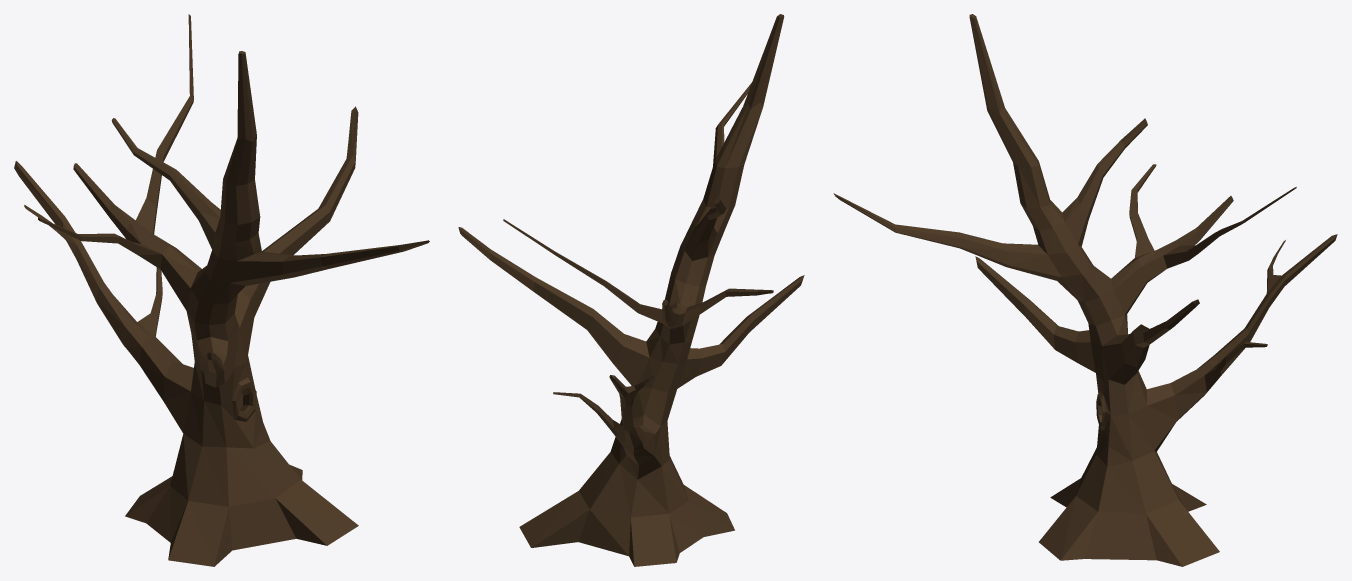
File: DeadTree.gltf
The picture shows the model from 3 angles, left to right: view 1: azimuth 30°, elevation 25°; view 2: azimuth 150°, elevation 25°; view 3: azimuth 270°, elevation 25°; orthographic projection. The views are drawn at different scales.
Parts seen in each view (by area): view 1: DeadTree; view 2: DeadTree; view 3: DeadTree.
Boxes of the visible parts, x1,y1,x2,y2 form: DeadTree: (14, 14, 429, 566); DeadTree: (458, 14, 804, 566); DeadTree: (833, 14, 1337, 566).
Bounding box in the file's own units: 3.22 × 4.97 × 4.78.
